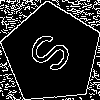S: (26, 29, 82, 82)
